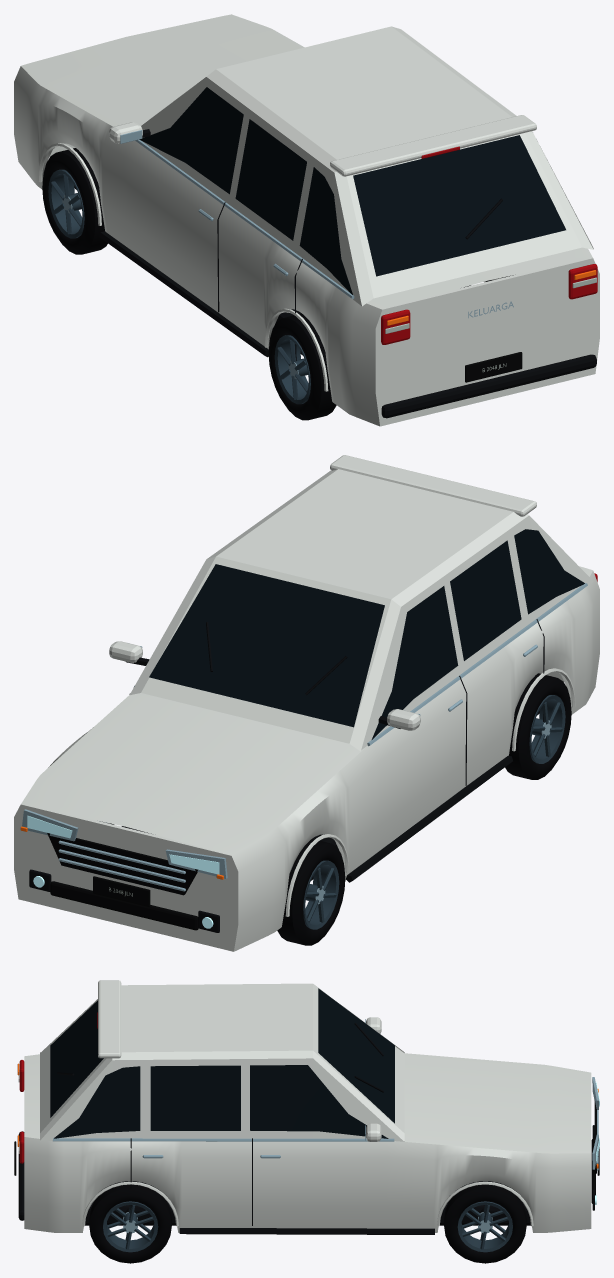
The model's file is family_mpv_pearl.glb.
The picture shows the model from 3 angles, top to bottom: view 1: azimuth 30°, elevation 25°; view 2: azimuth 150°, elevation 25°; view 3: azimuth 270°, elevation 25°; orthographic projection. The views are drawn at different scales.
Visible parts, largest first — view 1: Body_Mesh, Wheel_RL_Mesh, Wheel_FL_Mesh, TailLights_Mesh; view 2: Body_Mesh, Wheel_FL_Mesh, Wheel_RL_Mesh, Headlights_Mesh; view 3: Body_Mesh, Wheel_RR_Mesh, Wheel_FR_Mesh, TailLights_Mesh.
Boxes of the visible parts, left/top/right/bottom form: Body_Mesh: left=14, top=14, right=599, bottom=426; Wheel_RL_Mesh: left=268, top=313, right=336, bottom=420; Wheel_FL_Mesh: left=42, top=148, right=107, bottom=254; TailLights_Mesh: left=381, top=146, right=597, bottom=344; Body_Mesh: left=14, top=455, right=599, bottom=951; Wheel_FL_Mesh: left=277, top=839, right=345, bottom=945; Wheel_RL_Mesh: left=505, top=673, right=571, bottom=779; Headlights_Mesh: left=22, top=809, right=227, bottom=928; Body_Mesh: left=14, top=980, right=599, bottom=1234; Wheel_RR_Mesh: left=89, top=1184, right=171, bottom=1263; Wheel_FR_Mesh: left=444, top=1184, right=526, bottom=1263; TailLights_Mesh: left=18, top=1012, right=97, bottom=1163.
Size of the model in its own units: 2.15 by 1.7 by 4.54.
Materials: 2 (1 with a texture image).
